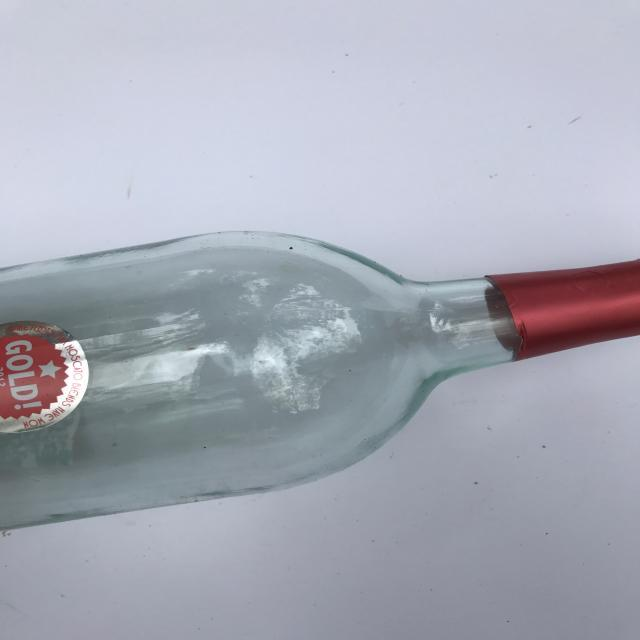glass: (0, 227, 640, 535)
